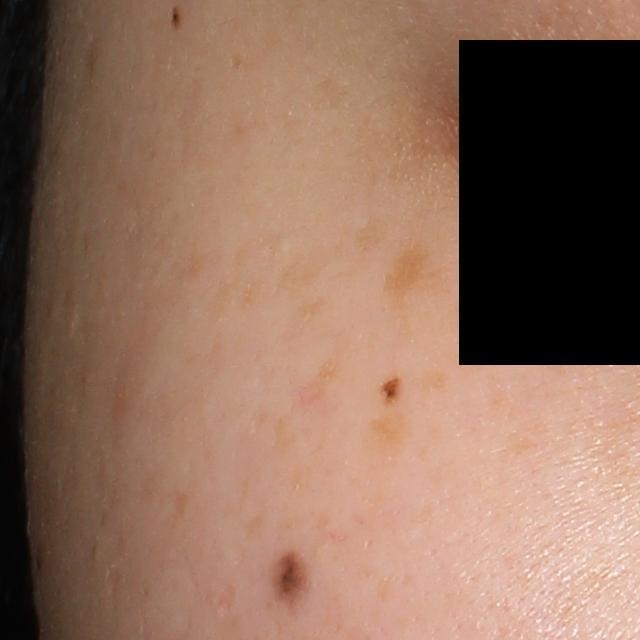melasma: (270, 233, 339, 305), (310, 323, 371, 391), (382, 240, 443, 297), (442, 286, 511, 336), (353, 214, 398, 259), (372, 413, 408, 460), (418, 368, 449, 393)
nevus: (277, 552, 305, 601)
